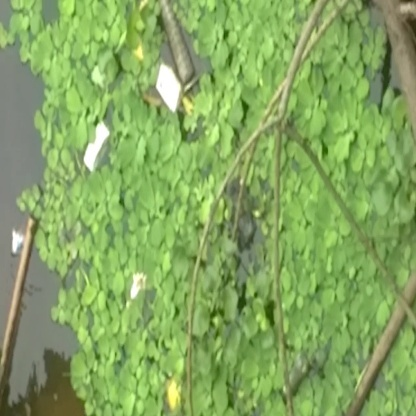branch: (1, 217, 42, 387)
